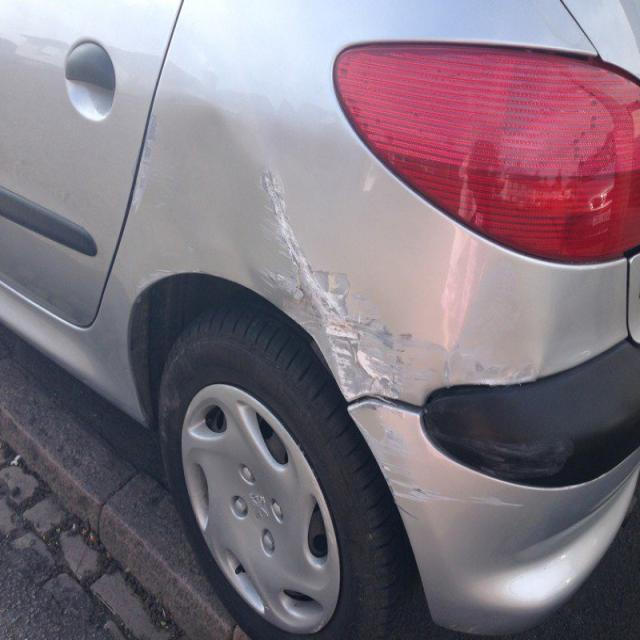Scratch: (253, 163, 421, 414), (429, 329, 537, 384), (374, 437, 435, 515)
